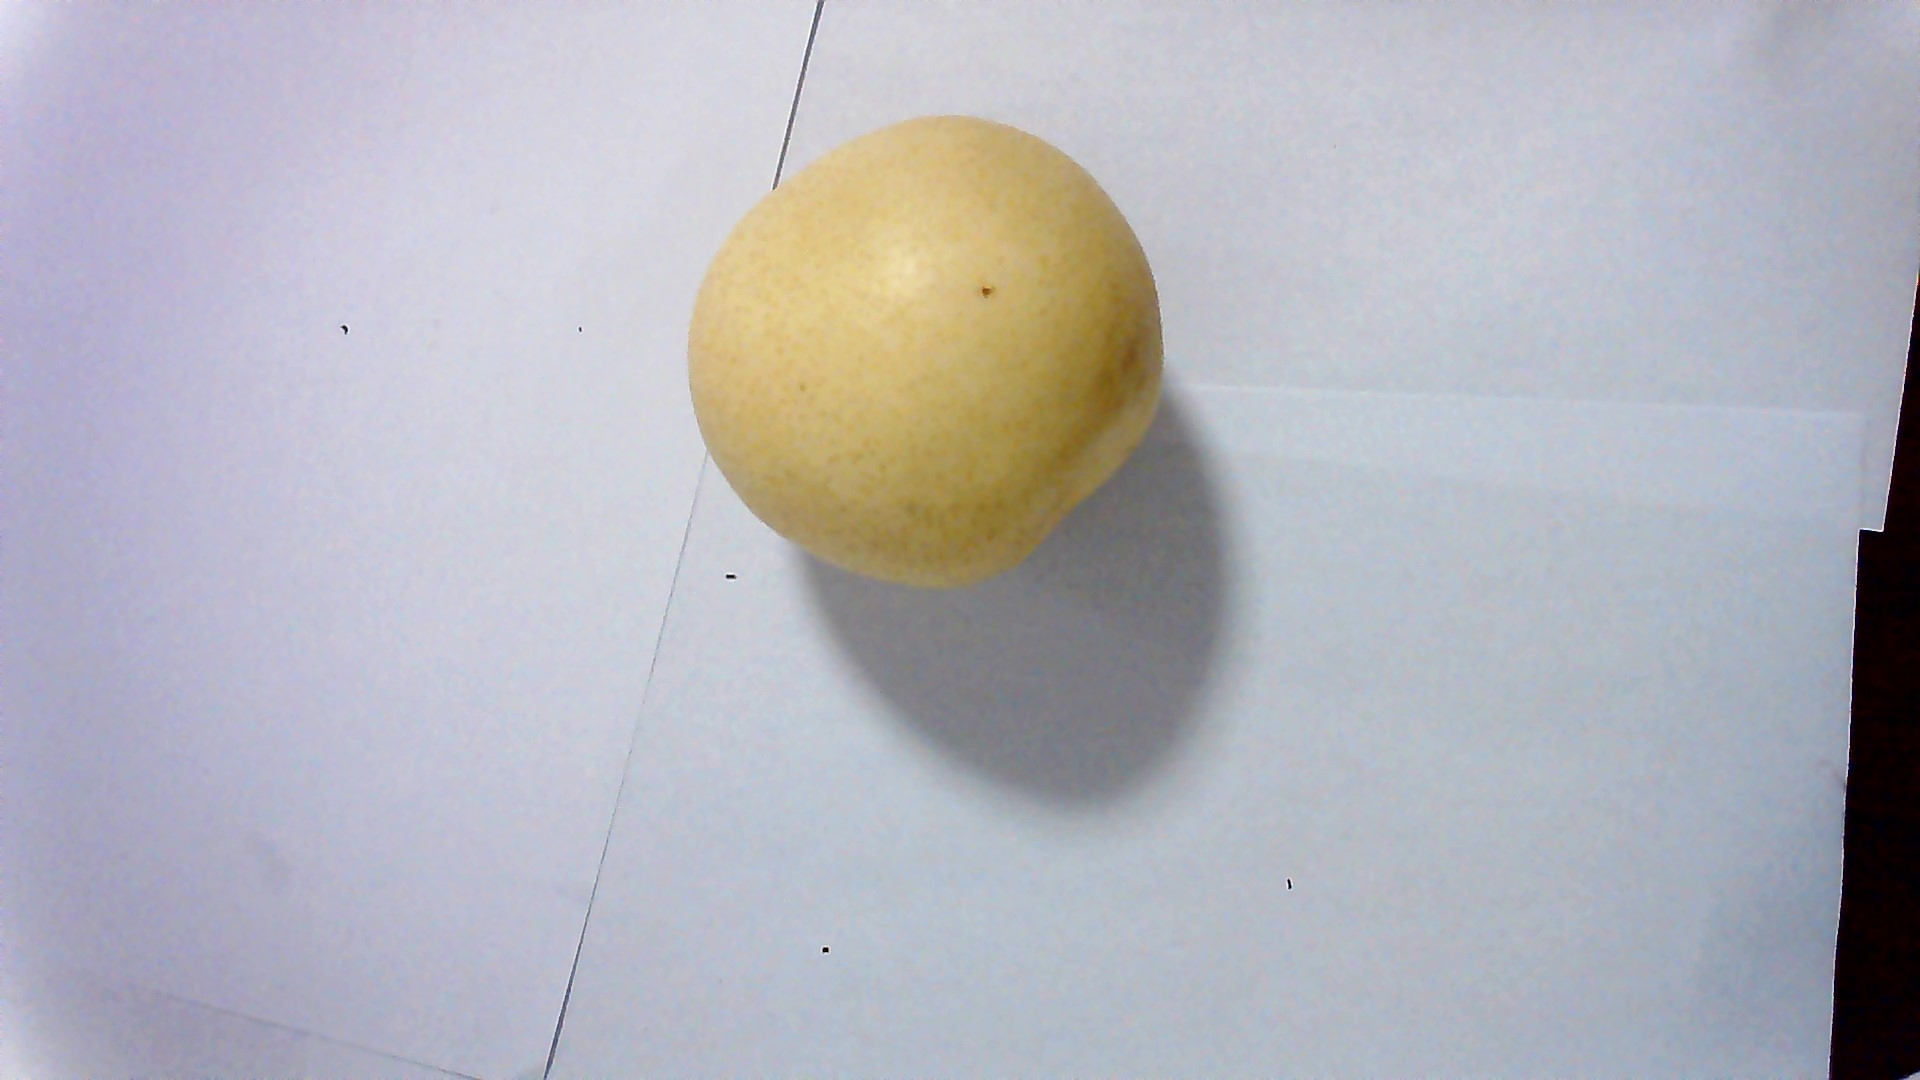pear: (694, 123, 1167, 589)
